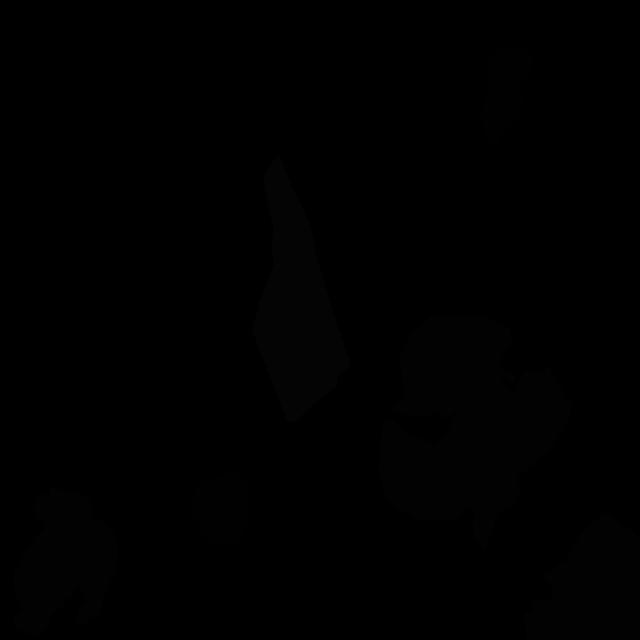cardboard: (378, 314, 572, 551), (12, 486, 118, 636), (524, 511, 640, 640)
rigid_plastic: (481, 44, 534, 146), (193, 470, 250, 547)
soft_plastic: (252, 156, 351, 423)
